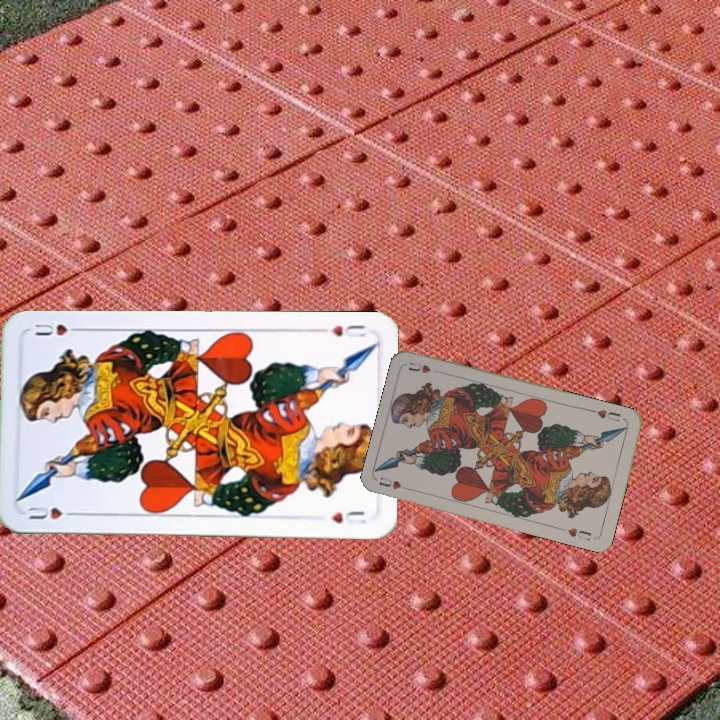HU: (24, 503, 81, 522), (326, 320, 367, 340), (375, 473, 415, 493), (588, 405, 624, 424)
